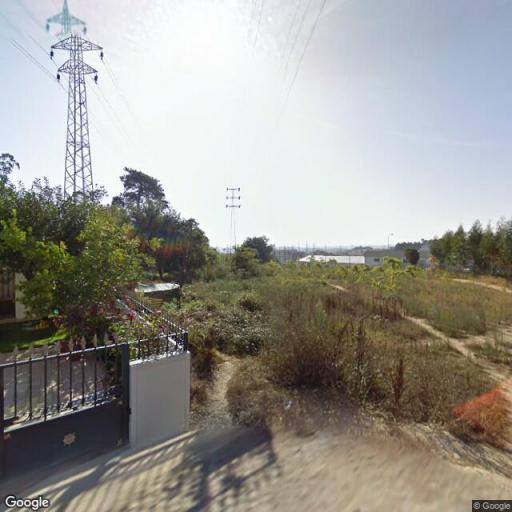ss_3: (45, 0, 109, 215), (225, 183, 242, 260)
